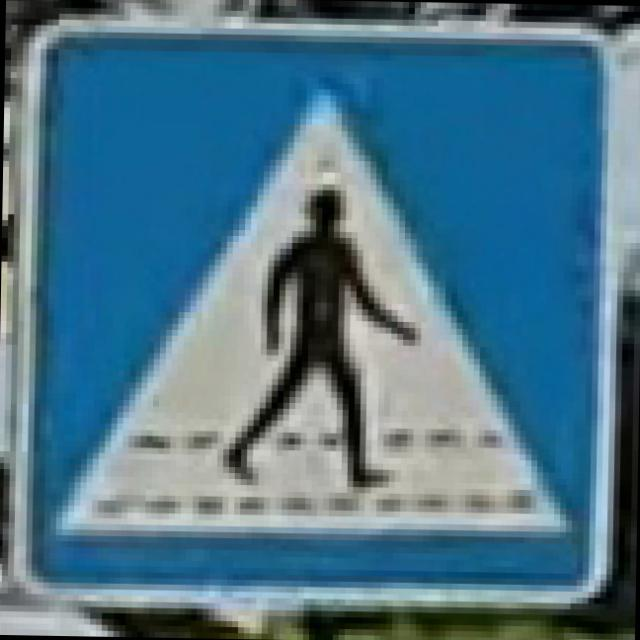zebracrossing_sign: (1, 12, 622, 616)
